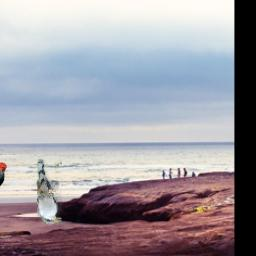Cuckoo: (36, 161, 61, 225)
Woodpecker: (0, 162, 7, 196)
